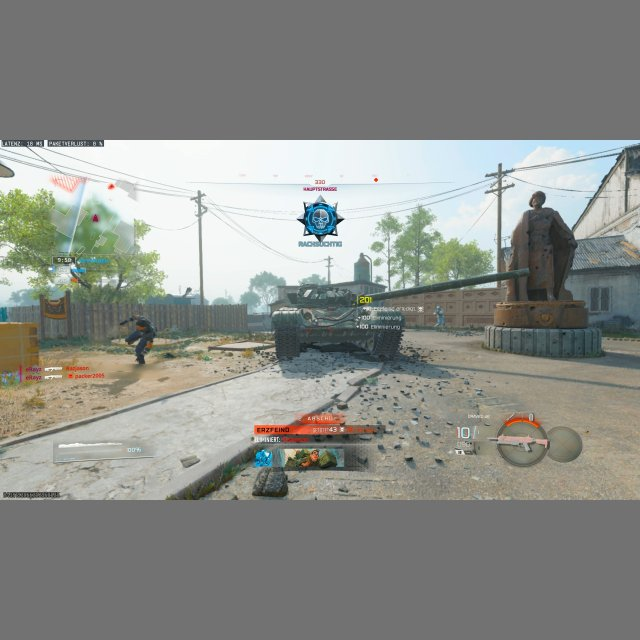player: (121, 314, 156, 365), (434, 305, 446, 331)
